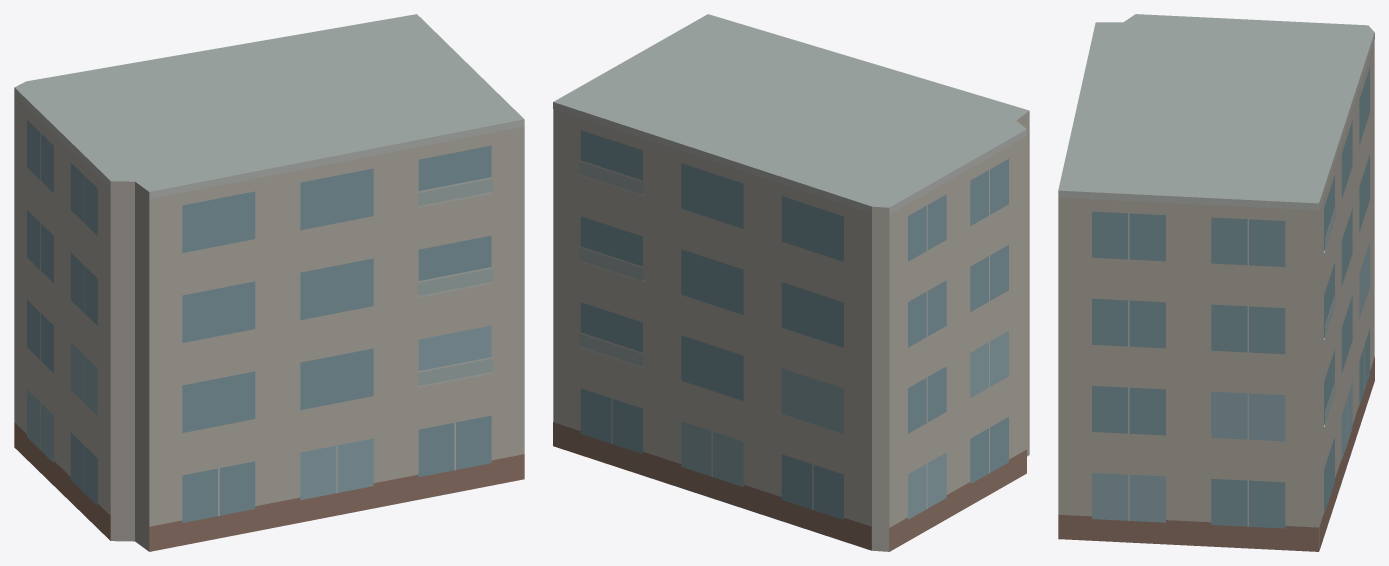
Rendered from survey-upis-32921798.glb.
3 renders of one model, left to right at view 1: azimuth 30°, elevation 25°; view 2: azimuth 150°, elevation 25°; view 3: azimuth 270°, elevation 25°, orthographic. The views are drawn at different scales.
Parts seen in each view (by area): view 1: survey-upis-32921798.tmp; view 2: survey-upis-32921798.tmp; view 3: survey-upis-32921798.tmp.
Part boxes in pixels (box(x1,y1,x2,y2)): survey-upis-32921798.tmp: box(14, 14, 524, 551); survey-upis-32921798.tmp: box(553, 14, 1029, 551); survey-upis-32921798.tmp: box(1058, 14, 1374, 551).
Bounding box in the file's own units: 14.23 × 12.2 × 10.05.
